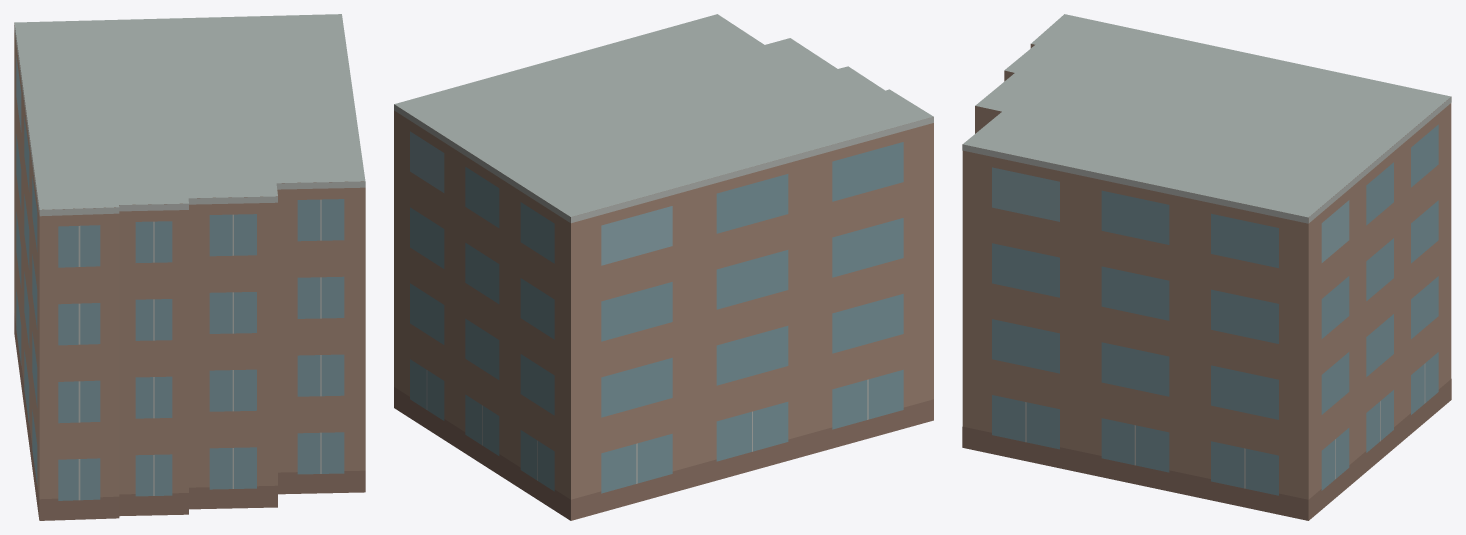
Rendered from survey-upis-32777903.glb.
The picture shows the model from 3 angles, left to right: view 1: azimuth 30°, elevation 25°; view 2: azimuth 150°, elevation 25°; view 3: azimuth 270°, elevation 25°; orthographic projection. The views are drawn at different scales.
Visible parts, largest first — view 1: survey-upis-32777903.tmp; view 2: survey-upis-32777903.tmp; view 3: survey-upis-32777903.tmp.
Part boxes in pixels (x1,y1,x2,y2): survey-upis-32777903.tmp: (14,14,365,520); survey-upis-32777903.tmp: (394,14,933,520); survey-upis-32777903.tmp: (962,14,1451,520).
Bounding box in the file's own units: 17.19 × 11.94 × 17.45.
